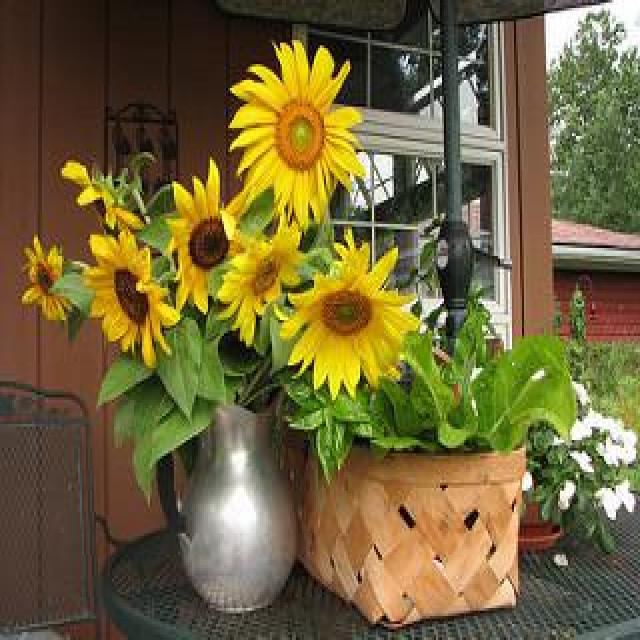sunflower: (230, 31, 363, 224), (280, 228, 417, 398), (84, 228, 179, 365), (163, 158, 245, 314), (217, 218, 309, 341), (61, 160, 146, 231), (23, 230, 69, 326)
